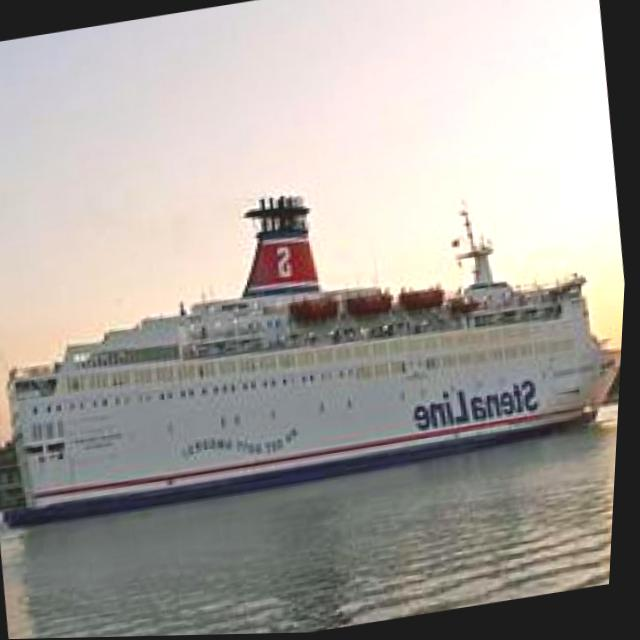ship2: (8, 198, 625, 531)
